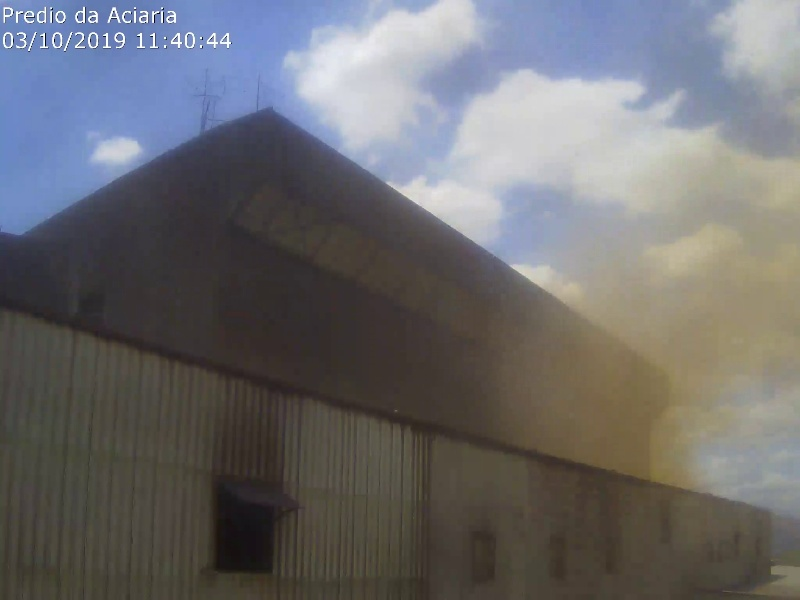bom: (1, 1, 302, 168)
pessimo: (509, 89, 800, 488)
